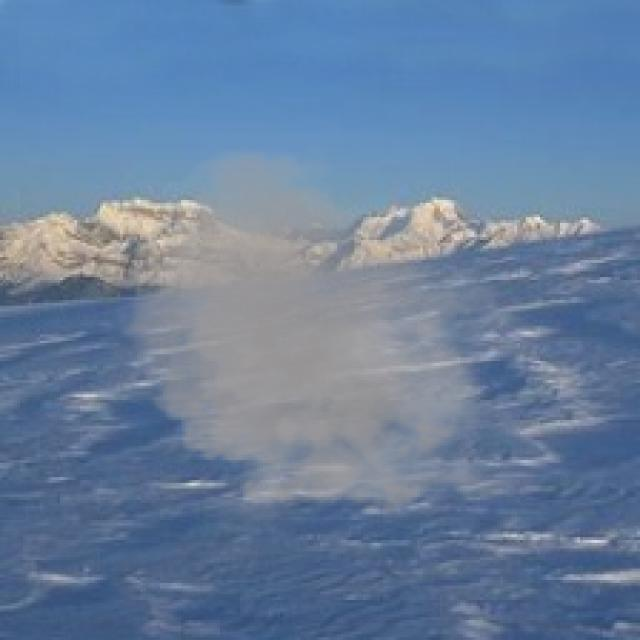smoke: (103, 137, 520, 534)
